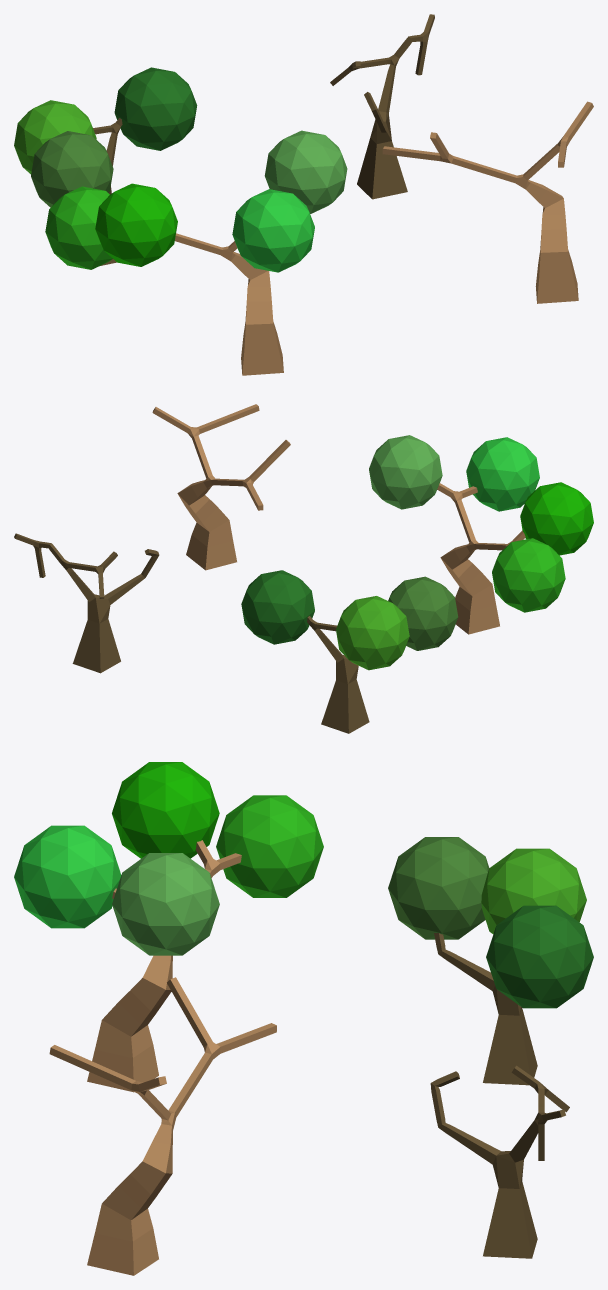
File: trees.fbx
3 views of the same model, one above another, from view 1: azimuth 30°, elevation 25°; view 2: azimuth 150°, elevation 25°; view 3: azimuth 270°, elevation 25° (orthographic). The views are drawn at different scales.
Parts seen in each view (by area): view 1: Cube.003, Icosphere.005, Icosphere.003, Icosphere.002, Icosphere.004, Cube.001, Icosphere, Cube.002, Icosphere.006, Icosphere.001, Cube; view 2: Cube.003, Cube.001, Icosphere.001, Icosphere.006, Icosphere.004, Icosphere.002, Icosphere.003, Cube.002, Icosphere.005, Icosphere, Cube; view 3: Cube.003, Icosphere.002, Icosphere.004, Icosphere.003, Icosphere.006, Icosphere, Icosphere.005, Cube.001, Cube.002, Icosphere.001, Cube.
Boxes of the visible parts, x1,y1,x2,y2 form: Cube.003: (382, 101, 593, 303); Icosphere.005: (95, 183, 177, 266); Icosphere.003: (232, 189, 314, 272); Icosphere.002: (114, 67, 197, 150); Icosphere.004: (264, 130, 347, 213); Cube.001: (330, 14, 434, 199); Icosphere: (31, 131, 113, 207); Cube.002: (175, 233, 283, 375); Icosphere.006: (45, 186, 112, 269); Icosphere.001: (14, 100, 96, 174); Cube: (93, 118, 122, 265); Cube.003: (152, 404, 290, 570); Cube.001: (14, 533, 159, 673); Icosphere.001: (336, 596, 409, 670); Icosphere.006: (492, 538, 565, 612); Icosphere.004: (369, 435, 442, 509); Icosphere.002: (241, 570, 314, 644); Icosphere.003: (466, 437, 539, 511); Cube.002: (437, 483, 525, 634); Icosphere.005: (520, 482, 593, 555); Icosphere: (388, 576, 458, 650); Cube: (307, 616, 369, 733); Cube.003: (49, 977, 276, 1275); Icosphere.002: (486, 905, 593, 1008); Icosphere.004: (112, 853, 219, 955); Icosphere.003: (14, 825, 121, 928); Icosphere.006: (216, 795, 323, 897); Icosphere: (388, 837, 489, 939); Icosphere.005: (112, 762, 219, 858); Cube.001: (430, 1065, 569, 1258); Cube.002: (87, 840, 241, 1092); Icosphere.001: (481, 848, 586, 934); Cube: (434, 933, 537, 1085).
Size of the model in its own units: 1362 by 536 by 1074.
